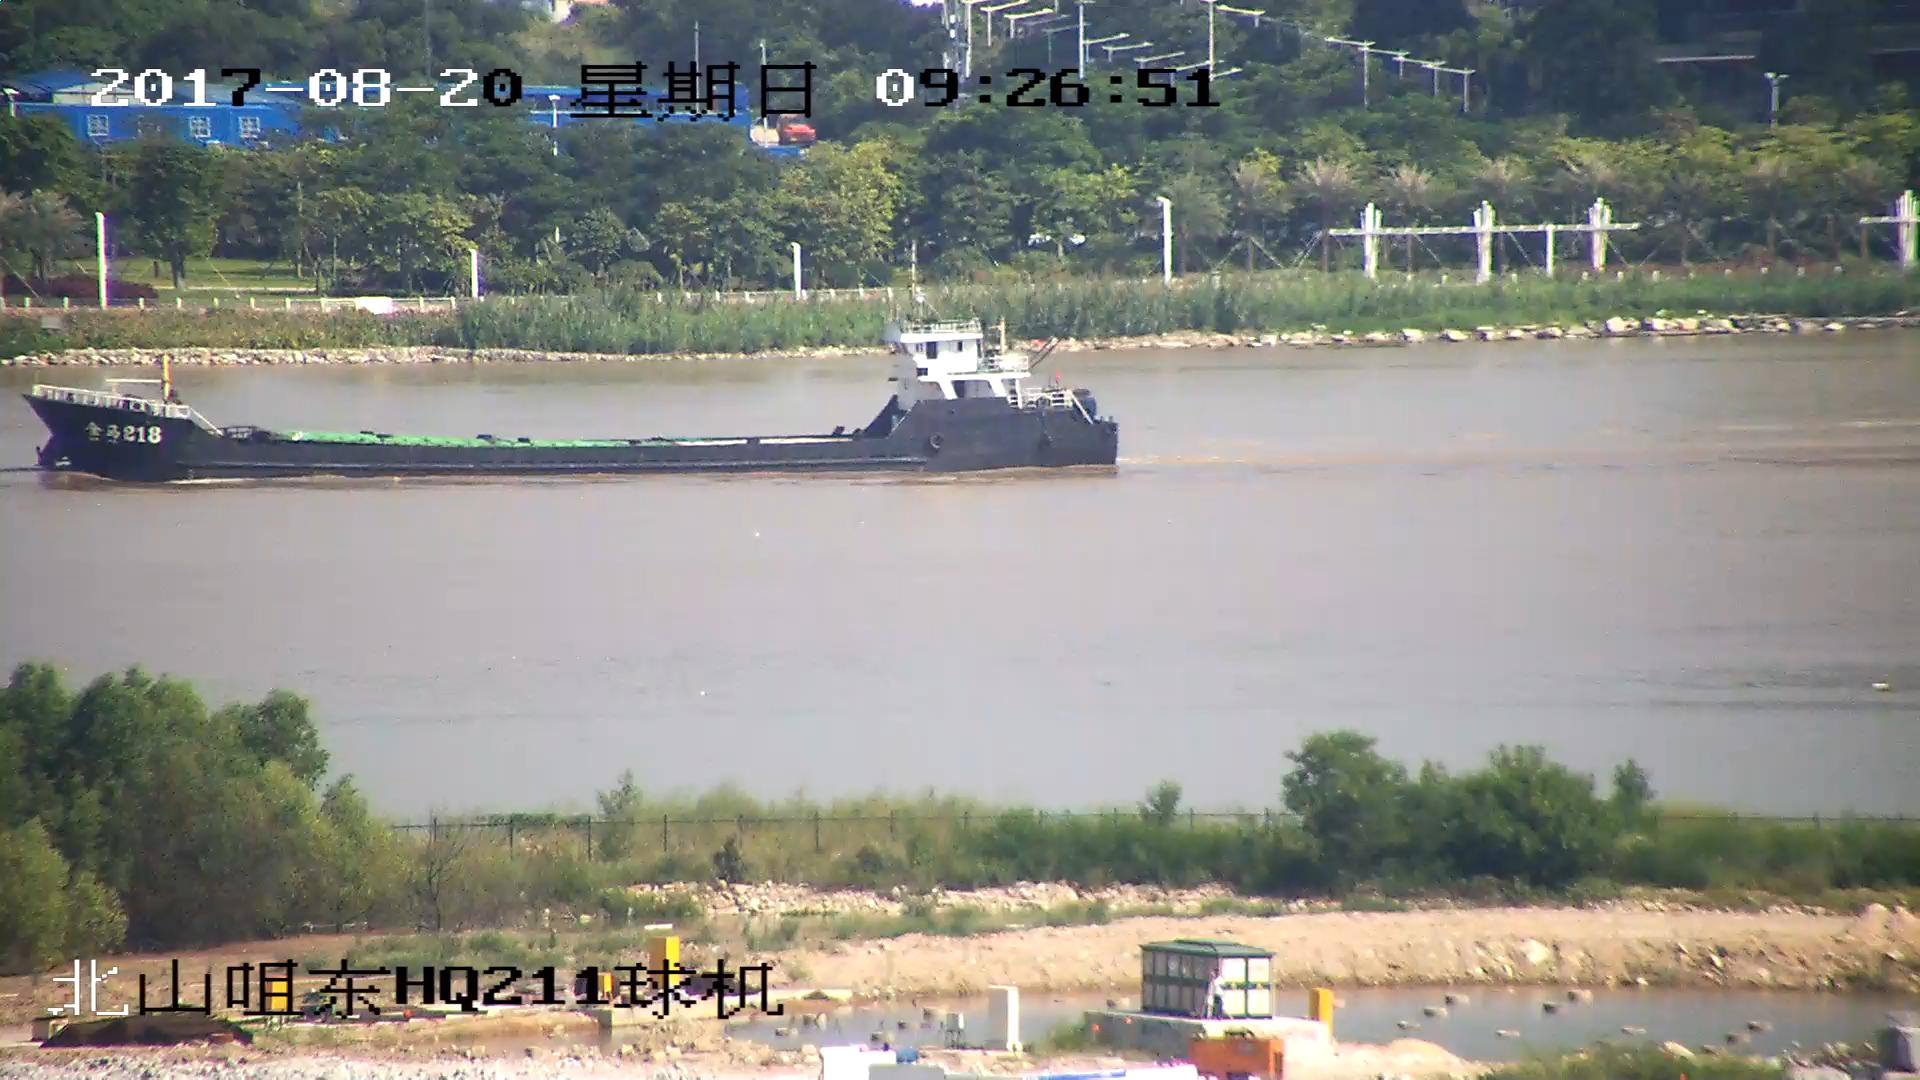general cargo ship: (31, 310, 1117, 480)
